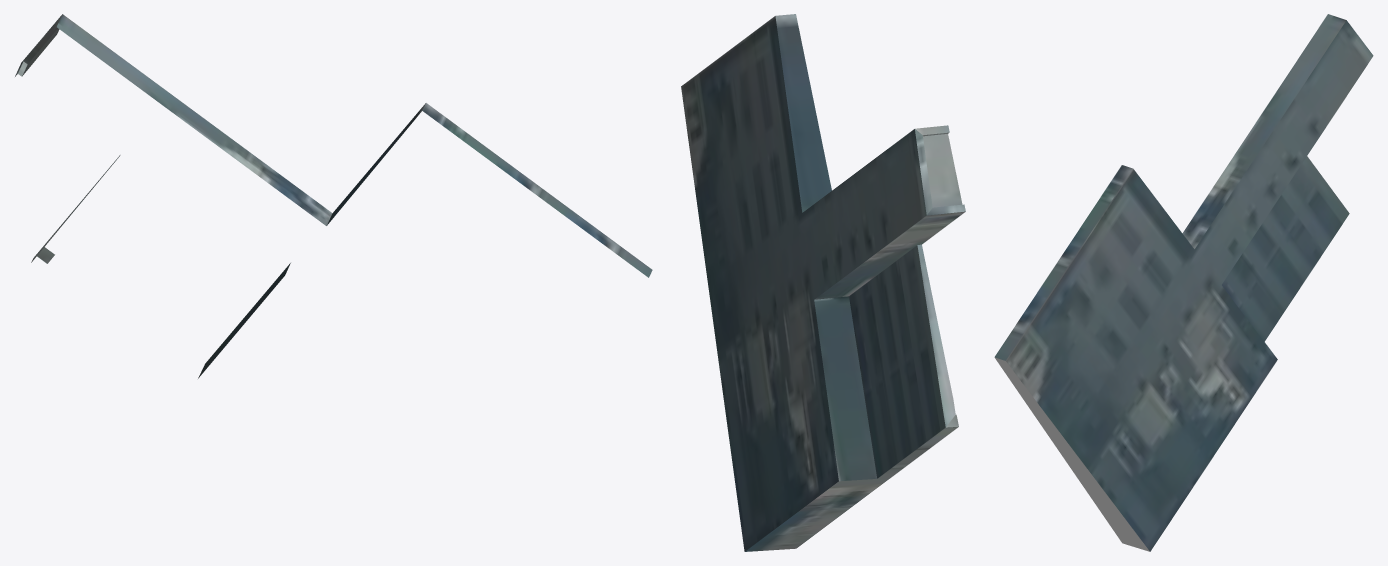
Rendered from 39542_bldg_Building.glb.
3 views of the same model, side by side, from view 1: azimuth 30°, elevation 25°; view 2: azimuth 150°, elevation 25°; view 3: azimuth 270°, elevation 25° (orthographic). The views are drawn at different scales.
Size of the model in its own units: 31.64 by 34.48 by 27.72.
2 materials, 1 textured.
